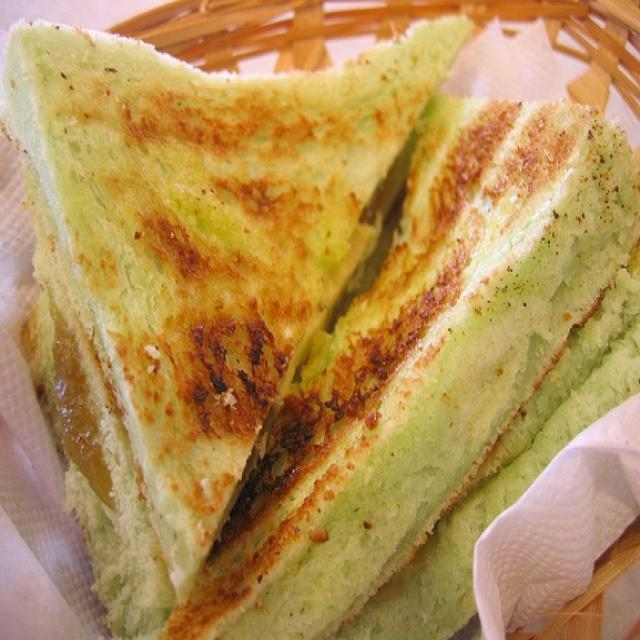面包点心: (10, 13, 628, 631)
